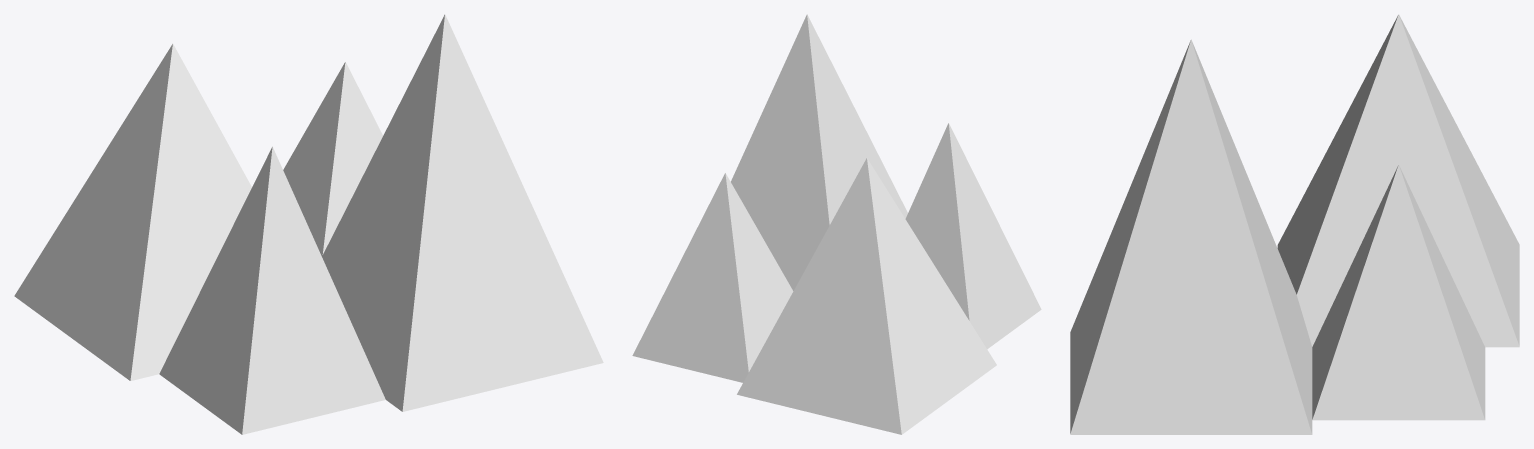
File: Party_Spikes.fbx
The picture shows the model from 3 angles, left to right: view 1: azimuth 30°, elevation 25°; view 2: azimuth 150°, elevation 25°; view 3: azimuth 270°, elevation 25°; orthographic projection. The views are drawn at different scales.
Visible parts, largest first — view 1: Glass_Spike_1, Glass_Spike_2, Glass_Spike_3, Glass_Spike_4; view 2: Glass_Spike_2, Glass_Spike_1, Glass_Spike_4, Glass_Spike_3; view 3: Glass_Spike_1, Glass_Spike_2, Glass_Spike_4.
Part boxes in pixels (x1,y1,x2,y2): Glass_Spike_1: (322,14,603,411); Glass_Spike_2: (14,44,251,380); Glass_Spike_3: (159,146,385,434); Glass_Spike_4: (283,62,382,256); Glass_Spike_2: (737,158,996,434); Glass_Spike_1: (731,14,907,290); Glass_Spike_4: (632,173,793,382); Glass_Spike_3: (905,123,1041,349); Glass_Spike_1: (1070,39,1312,434); Glass_Spike_2: (1277,14,1519,347); Glass_Spike_4: (1312,165,1485,420).
Size of the model in its own units: 81.25 by 68.75 by 81.25.
Materials: 2 (2 with a texture image).
